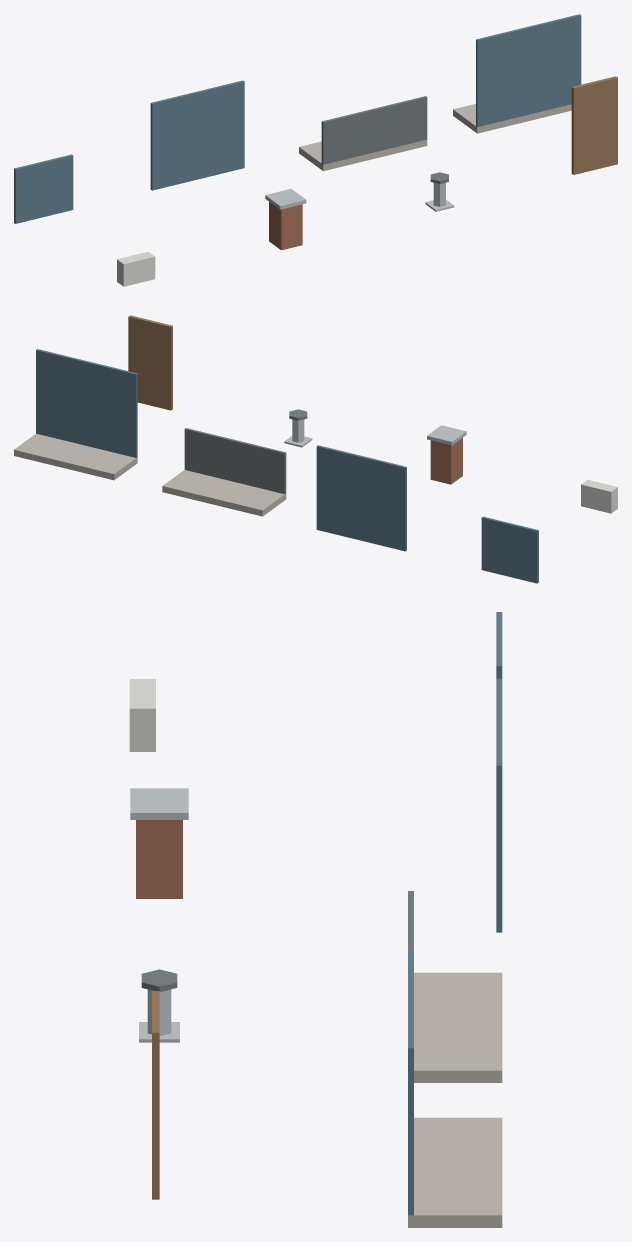
File: gallery_lod2.gltf
3 views of the same model, one above another, from view 1: azimuth 30°, elevation 25°; view 2: azimuth 150°, elevation 25°; view 3: azimuth 270°, elevation 25° (orthographic). The views are drawn at different scales.
Visible parts, largest first — view 1: glazed_balcony_v2_lod2, sliding_door_v2_lod2, open_balcony_v2_lod2, entrance_door_v2_lod2, casement_window_v2_lod2, chimney_v2_lod2, ac_unit_v2_lod2, roof_vent_v2_lod2; view 2: glazed_balcony_v2_lod2, sliding_door_v2_lod2, open_balcony_v2_lod2, entrance_door_v2_lod2, casement_window_v2_lod2, chimney_v2_lod2, ac_unit_v2_lod2, roof_vent_v2_lod2; view 3: glazed_balcony_v2_lod2, open_balcony_v2_lod2, chimney_v2_lod2, ac_unit_v2_lod2, roof_vent_v2_lod2, sliding_door_v2_lod2, entrance_door_v2_lod2.
Boxes of the visible parts, left/top/right/bottom form: glazed_balcony_v2_lod2: left=453, top=14, right=581, bottom=133; sliding_door_v2_lod2: left=150, top=80, right=244, bottom=190; open_balcony_v2_lod2: left=299, top=96, right=427, bottom=171; entrance_door_v2_lod2: left=571, top=76, right=617, bottom=174; casement_window_v2_lod2: left=14, top=154, right=73, bottom=223; chimney_v2_lod2: left=265, top=188, right=306, bottom=250; ac_unit_v2_lod2: left=117, top=251, right=155, bottom=286; roof_vent_v2_lod2: left=425, top=172, right=454, bottom=211; glazed_balcony_v2_lod2: left=14, top=349, right=137, bottom=480; sliding_door_v2_lod2: left=316, top=445, right=406, bottom=551; open_balcony_v2_lod2: left=162, top=428, right=286, bottom=516; entrance_door_v2_lod2: left=128, top=315, right=172, bottom=410; casement_window_v2_lod2: left=481, top=516, right=538, bottom=583; chimney_v2_lod2: left=427, top=425, right=466, bottom=484; ac_unit_v2_lod2: left=581, top=479, right=617, bottom=513; roof_vent_v2_lod2: left=284, top=409, right=312, bottom=447; glazed_balcony_v2_lod2: left=408, top=950, right=502, bottom=1227; open_balcony_v2_lod2: left=408, top=891, right=502, bottom=1082; chimney_v2_lod2: left=130, top=788, right=188, bottom=898; ac_unit_v2_lod2: left=129, top=679, right=155, bottom=751; roof_vent_v2_lod2: left=139, top=969, right=179, bottom=1042; sliding_door_v2_lod2: left=496, top=678, right=502, bottom=932; entrance_door_v2_lod2: left=152, top=991, right=159, bottom=1199.
Bounding box in the file's own units: 14.1 × 2.31 × 4.35.
